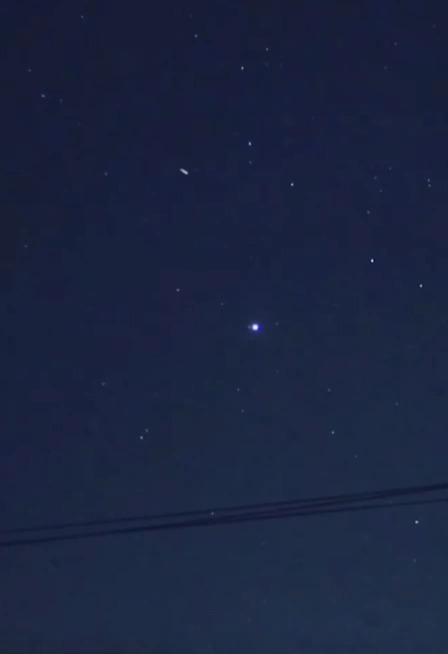meteorite: (174, 159, 194, 184)
